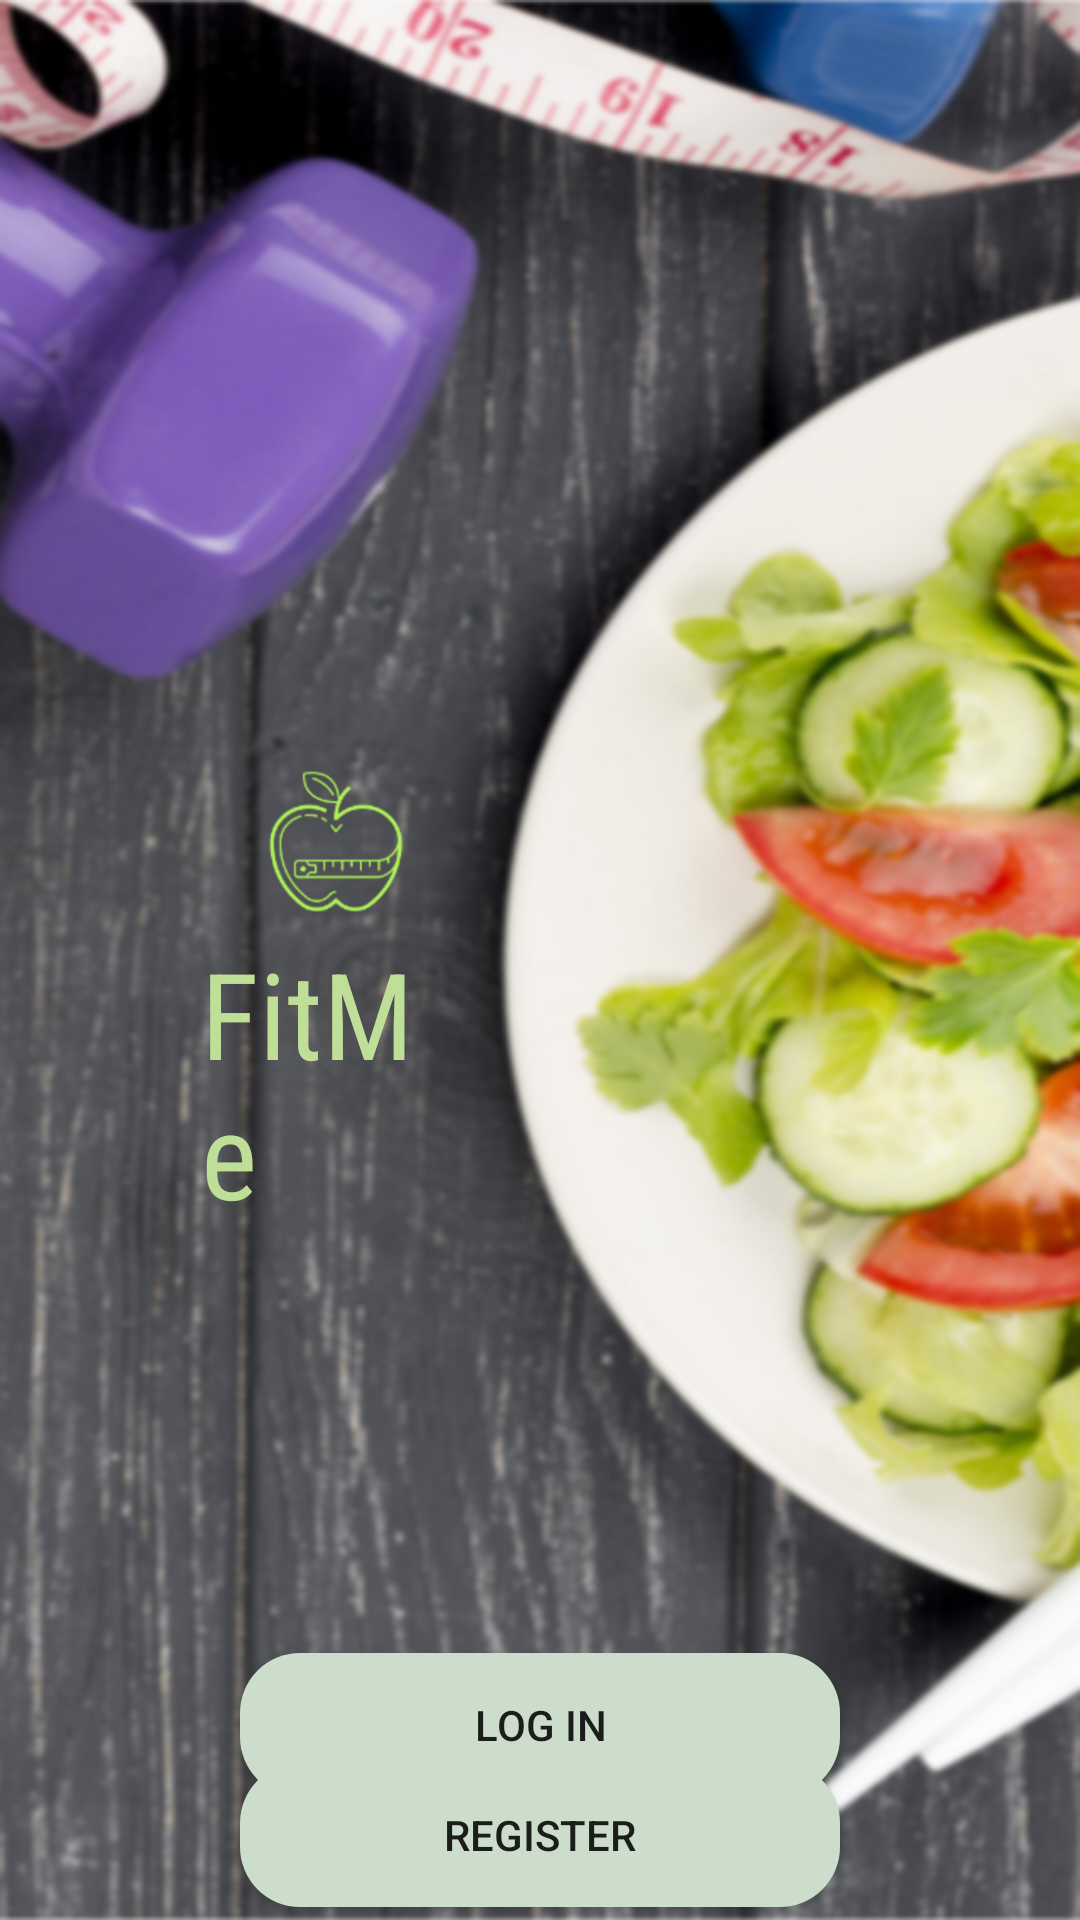

Icon click points for this 1080w x 1920h phone screenshot, format [x,y]:
healthy eating: [290,842]
